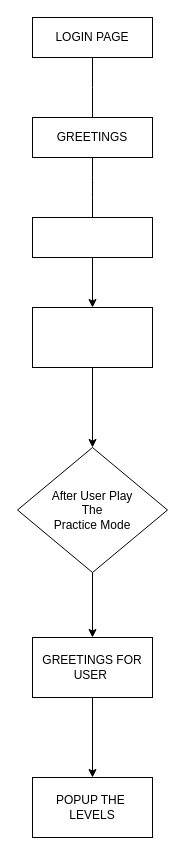
Some shapes in this 185 by 855 pixel diagram are drawn without their labels. The shapes that lost their labels are listed below. From the top down, each one's centre as x and y in pixels, then its label:
At [92,237]: "DEMO".
At [92,337]: "PRACTICE MODE".
